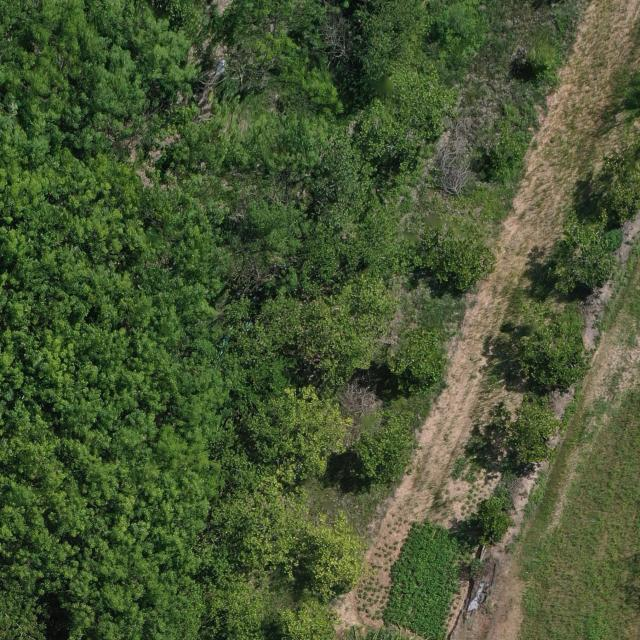Tree: (0, 0, 510, 640), (248, 270, 404, 388), (235, 384, 360, 491), (221, 482, 314, 576), (276, 507, 369, 600), (536, 208, 625, 304), (489, 316, 594, 396), (344, 406, 424, 503), (474, 393, 560, 481), (408, 224, 497, 297), (571, 144, 640, 229), (382, 326, 453, 397), (263, 595, 342, 640), (469, 496, 517, 550), (621, 1, 640, 115)
